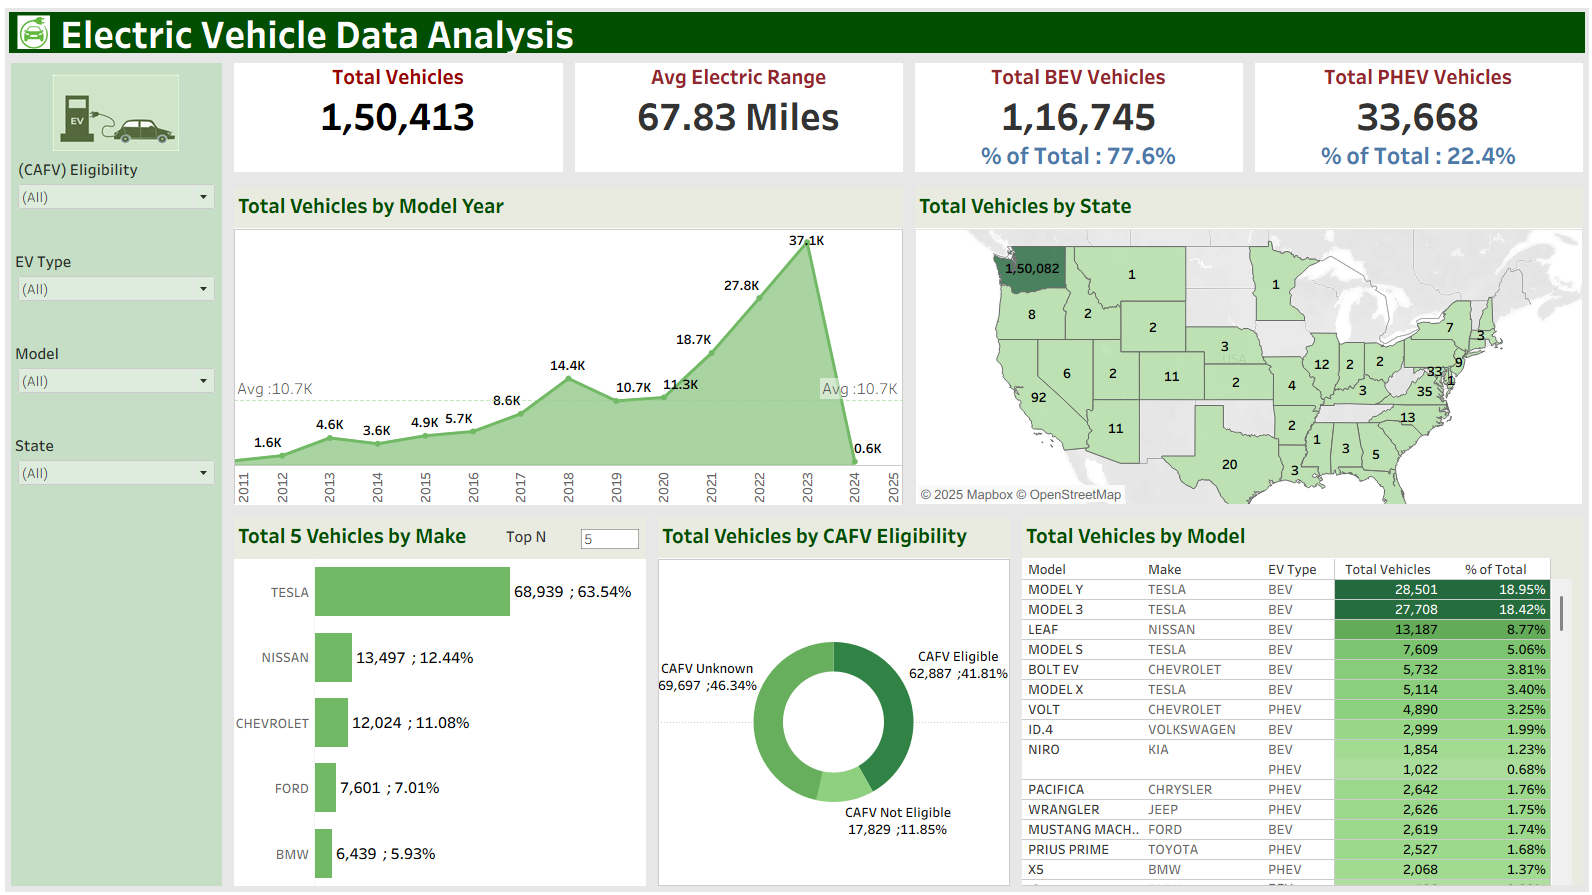

Layout of this report page (visuals, bound fields, positions):
{"tool":"tableau","page":{"name":"Dashboard 1","canvas":[1600,900],"ordinal":0},"visuals":[{"type":"title","box":[8,8,1584,49]},{"type":"image","param":"Image/Screenshot 2025-10-27 190426.png","box":[20,15,38,34]},{"type":"worksheet","title":"Total Vehicles","mark":"Automatic","box":[231,57,341,121]},{"type":"worksheet","title":"Avg Electric Range","mark":"Automatic","box":[572,57,340,121]},{"type":"worksheet","title":"Total BEV Vehicles","mark":"Automatic","box":[912,57,340,121]},{"type":"worksheet","title":"Total PHEV Vehicles ","mark":"Automatic","box":[1252,57,340,121]},{"type":"blank","box":[14,63,211,92]},{"type":"image","param":"Image/Screenshot 2025-10-27 184919.png","box":[18,74,201,77]},{"type":"filter","title":"Total Vehicles by Model Year","param":"[federated.09hw62w0rsita01aamtul1t8q77m].[none:Clean Alternative Fuel Vehicle (C","box":[14,155,211,92]},{"type":"worksheet","title":"Total Vehicles by Model Year","mark":"Area","rows":["Calculation_1173187771155439616","Calculation_1173187771155439616"],"cols":["Model Year"],"box":[231,181,681,330]},{"type":"worksheet","title":"Total Vehicles by State","mark":"Multipolygon","box":[912,181,680,330]},{"type":"filter","title":"Total Vehicles by Model Year","param":"[federated.09hw62w0rsita01aamtul1t8q77m].[none:Electric Vehicle Type:nk]","box":[14,247,211,92]},{"type":"filter","title":"Total Vehicles by Model Year","param":"[federated.09hw62w0rsita01aamtul1t8q77m].[none:Model:nk]","box":[14,339,211,92]},{"type":"filter","title":"Total Vehicles by Model Year","param":"[federated.09hw62w0rsita01aamtul1t8q77m].[none:State:nk]","box":[14,431,211,91]},{"type":"worksheet","title":"Total 10 Vehicles by Make","mark":"Automatic","rows":["Make"],"cols":["Calculation_1173187771155439616"],"box":[231,511,424,381]},{"type":"worksheet","title":"Total Vehicles by CAFV Eligibility","mark":"Pie","rows":["Calculation_1503639393858658305","Calculation_1503639393858658305"],"box":[655,511,364,381]},{"type":"worksheet","title":"Total Vehicles by Model","mark":"Square","rows":["Model","Make","Electric Vehicle Type"],"box":[1019,511,573,381]},{"type":"blank","box":[14,522,211,91]},{"type":"parameter","param":"[Parameters].[Parameter 1]","box":[509,526,136,32]},{"type":"blank","box":[14,613,211,91]},{"type":"blank","box":[14,704,211,91]},{"type":"blank","box":[14,795,211,91]}]}

Visuals, with their boxes in screenshot pixels (x1, y1, x2, y2), scaled from the page's 1600x900 canvas onto the 1592x895 screenshot:
title: 8,8,1584,57
image: 20,15,58,49
"Total Vehicles" worksheet: 230,57,569,177
"Avg Electric Range" worksheet: 569,57,907,177
"Total BEV Vehicles" worksheet: 907,57,1246,177
"Total PHEV Vehicles " worksheet: 1246,57,1584,177
blank: 14,63,224,154
image: 18,74,218,150
"Total Vehicles by Model Year" filter: 14,154,224,246
"Total Vehicles by Model Year" worksheet (Area marks): 230,180,907,508
"Total Vehicles by State" worksheet (Multipolygon marks): 907,180,1584,508
"Total Vehicles by Model Year" filter: 14,246,224,337
"Total Vehicles by Model Year" filter: 14,337,224,429
"Total Vehicles by Model Year" filter: 14,429,224,519
"Total 10 Vehicles by Make" worksheet: 230,508,652,887
"Total Vehicles by CAFV Eligibility" worksheet (Pie marks): 652,508,1014,887
"Total Vehicles by Model" worksheet (Square marks): 1014,508,1584,887
blank: 14,519,224,610
parameter: 506,523,642,555
blank: 14,610,224,700
blank: 14,700,224,791
blank: 14,791,224,881
